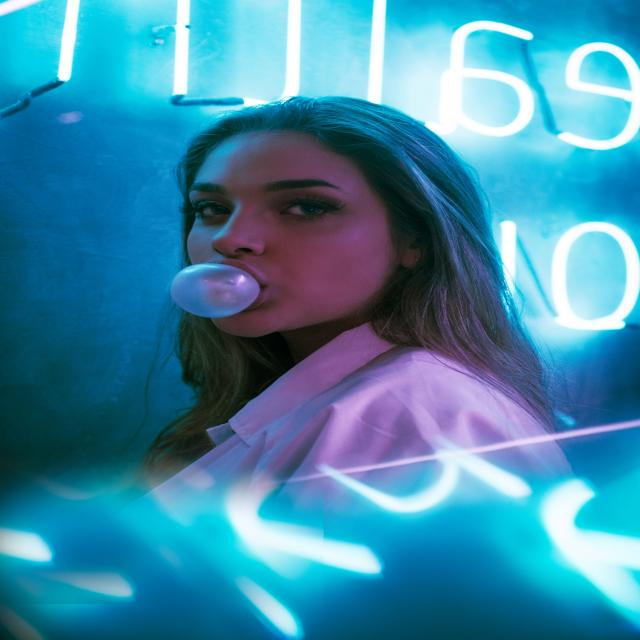adult: (123, 93, 558, 476)
